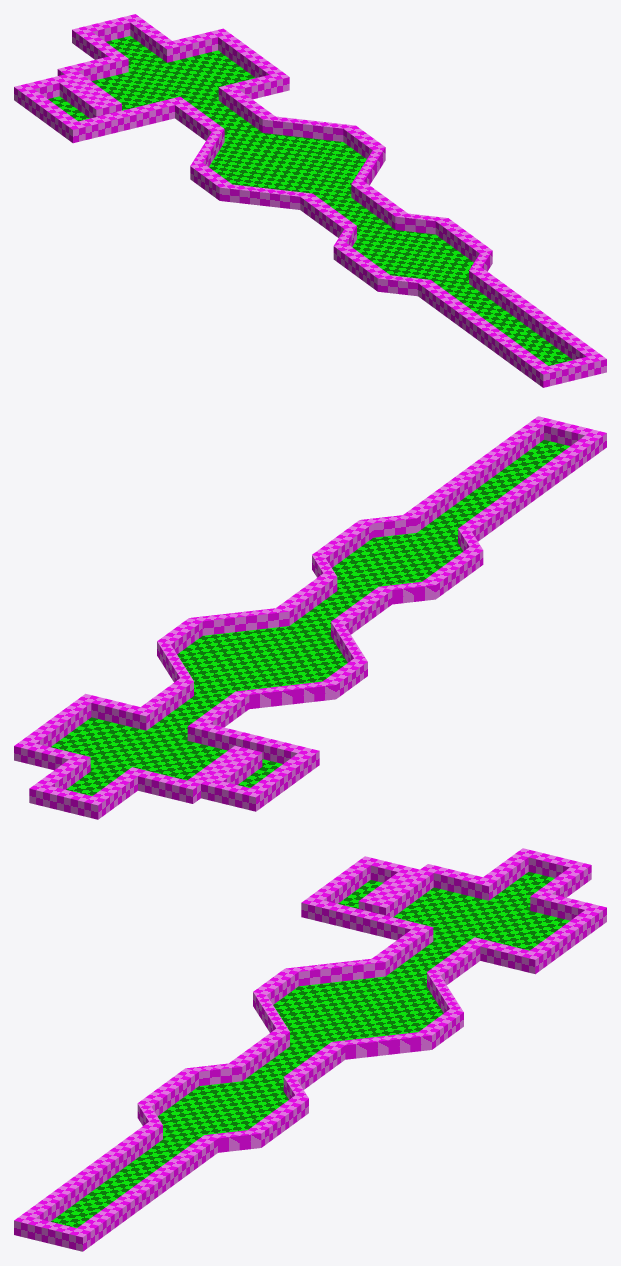
File: Level3.fbx
3 renders of one model, top to bottom at view 1: azimuth 30°, elevation 25°; view 2: azimuth 150°, elevation 25°; view 3: azimuth 330°, elevation 25°, orthographic. The views are drawn at different scales.
Visible parts, largest first — view 1: Plane; view 2: Plane; view 3: Plane.
Boxes of the visible parts, <box> form: Plane: <box>48,36,572,365</box>; Plane: <box>51,440,569,795</box>; Plane: <box>51,872,569,1227</box>.
Bounding box in the file's own units: 3400 × 200 × 12800.
